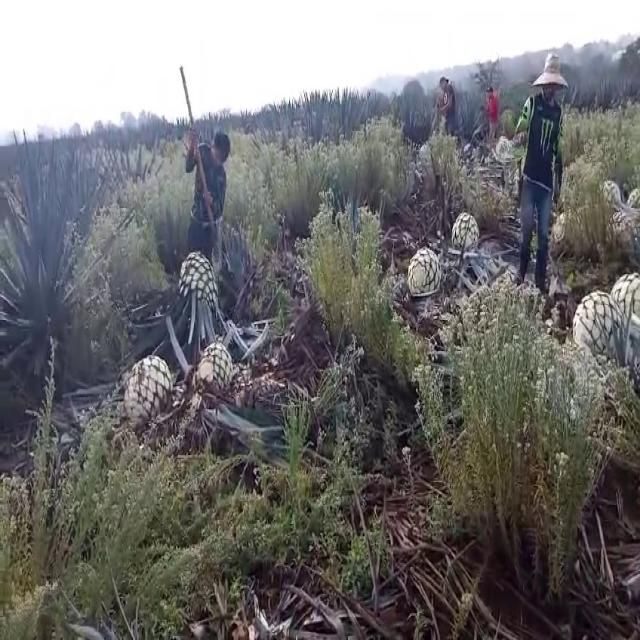agave: (570, 284, 625, 366), (173, 246, 224, 324), (120, 354, 174, 422), (194, 331, 235, 398), (403, 244, 443, 300), (604, 264, 640, 324), (451, 206, 482, 256)
